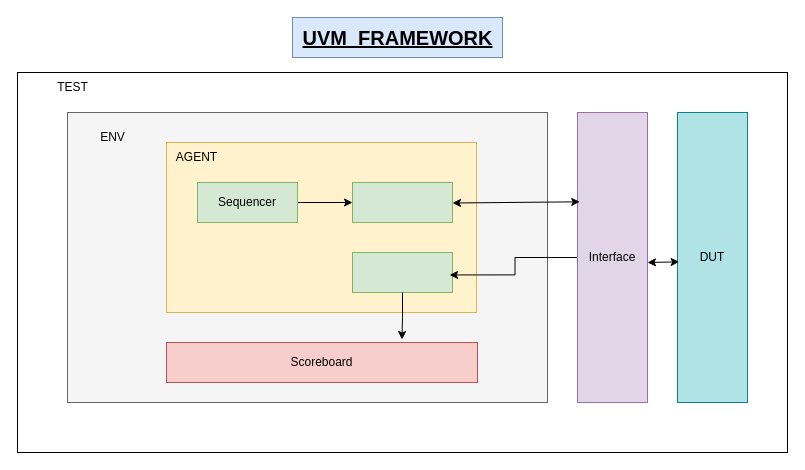
Some shapes in this 805 by 470 pixel diagram are drawn without their labels. Each missing label, with the centre of its shape:
Driver: point (402, 202)
Monitor: point (402, 272)
